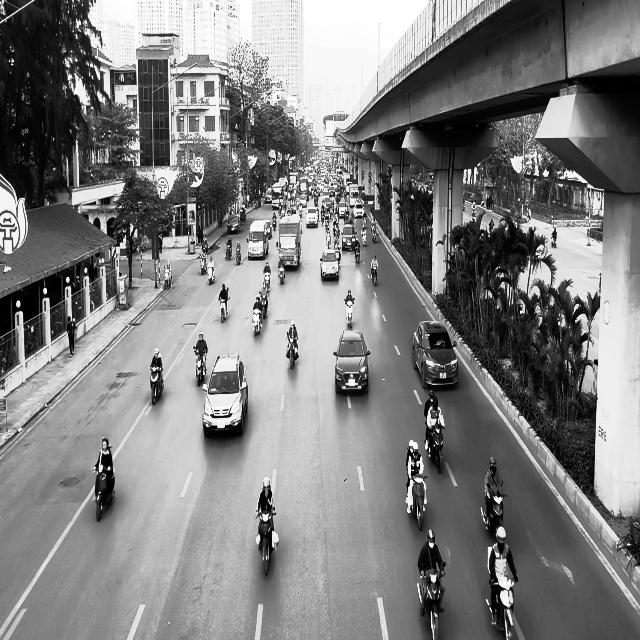car: (202, 352, 248, 437), (412, 320, 458, 389), (332, 329, 370, 394), (319, 248, 340, 280), (341, 224, 357, 250), (227, 214, 241, 233)
motorbike: (416, 564, 446, 640), (256, 507, 278, 576), (93, 464, 115, 521), (406, 473, 427, 530), (480, 494, 506, 537), (424, 424, 444, 474), (149, 365, 164, 405), (194, 346, 208, 386), (286, 331, 298, 369), (252, 306, 263, 336), (219, 292, 229, 323), (344, 298, 354, 329), (259, 288, 268, 318), (163, 266, 172, 290), (200, 251, 208, 275), (207, 262, 215, 284), (370, 265, 378, 286), (354, 240, 360, 262), (263, 273, 270, 290), (225, 243, 232, 260), (371, 223, 377, 242), (235, 248, 241, 265)
